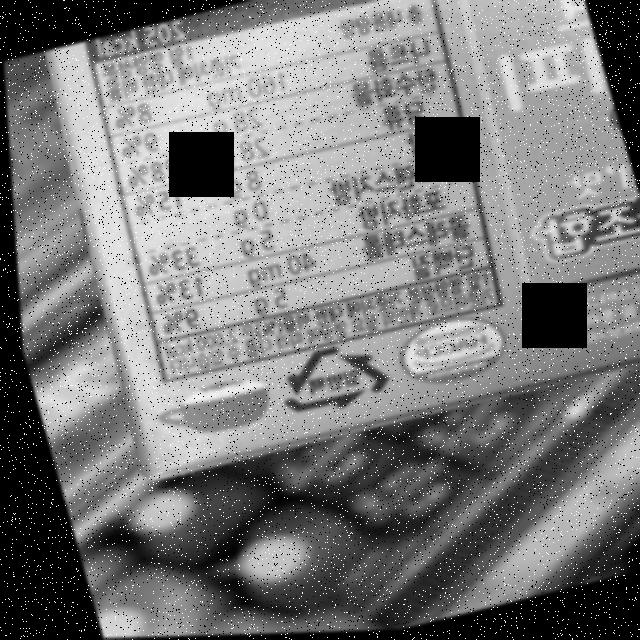NormalPack: (264, 336, 389, 423)
